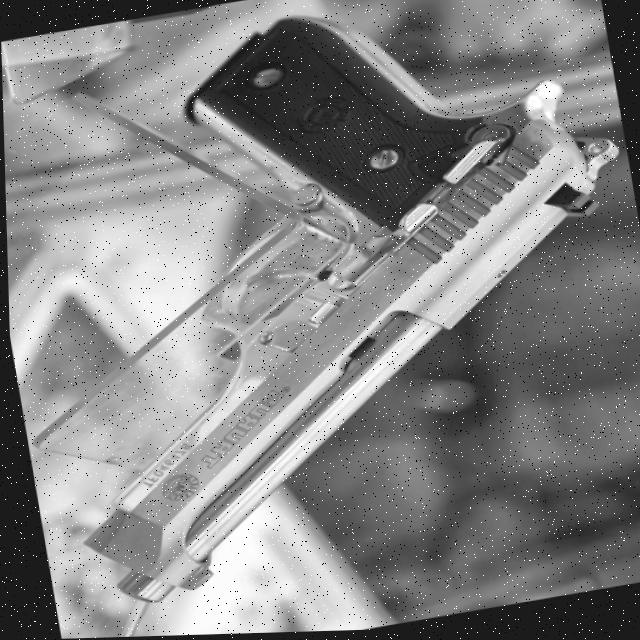pistol: (0, 0, 640, 615)
